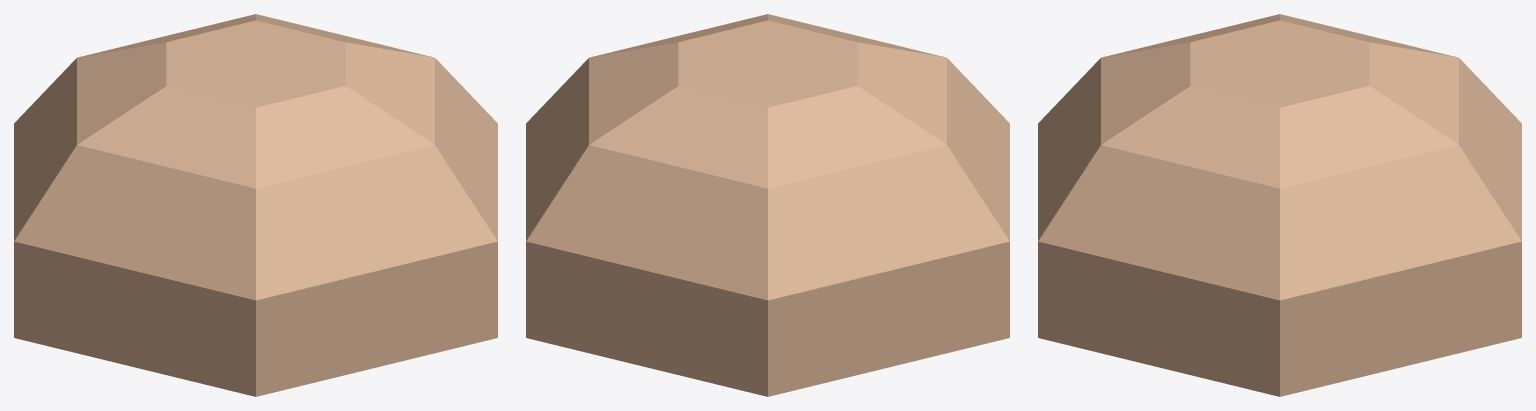
Rendered from meteorHalf.glb.
The picture shows the model from 3 angles, left to right: view 1: azimuth 30°, elevation 25°; view 2: azimuth 150°, elevation 25°; view 3: azimuth 270°, elevation 25°; orthographic projection.
Visible parts, largest first — view 1: meteorHalf; view 2: meteorHalf; view 3: meteorHalf.
Boxes of the visible parts, x1,y1,x2,y2 form: meteorHalf: (14,14,497,396); meteorHalf: (526,14,1009,396); meteorHalf: (1038,14,1521,396).
Bounding box in the file's own units: 11.55 × 4.9 × 10.
